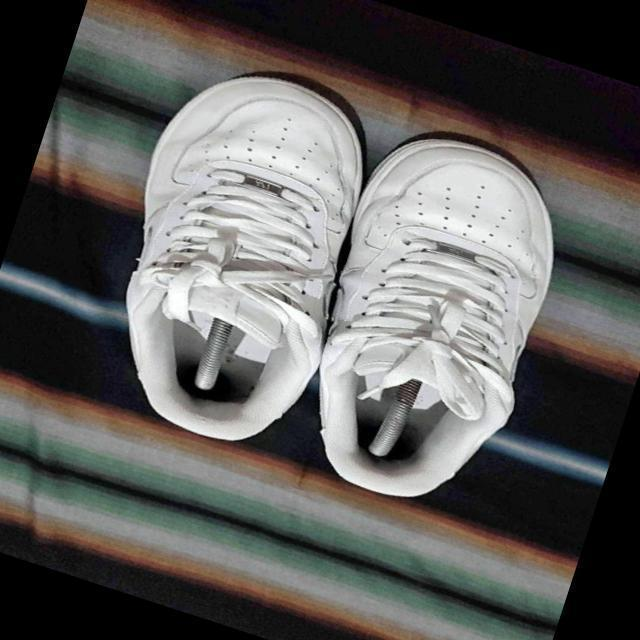nike original air force: (274, 114, 594, 527)
